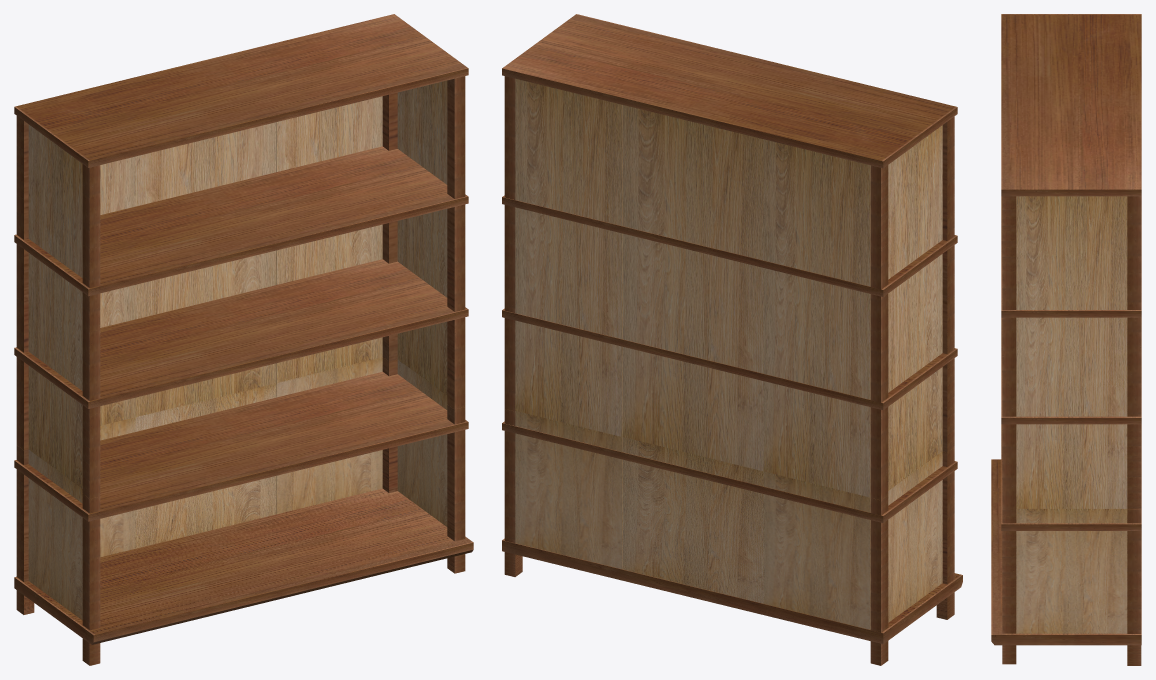
Rendered from MuebleEstante3.fbx.
3 views of the same model, side by side, from view 1: azimuth 30°, elevation 25°; view 2: azimuth 150°, elevation 25°; view 3: azimuth 270°, elevation 25° (orthographic). The views are drawn at different scales.
Parts seen in each view (by area): view 1: Cubo.032; view 2: Cubo.032; view 3: Cubo.032.
Part boxes in pixels (bbox=[...]): Cubo.032: bbox=[14, 14, 473, 665]; Cubo.032: bbox=[502, 14, 962, 665]; Cubo.032: bbox=[991, 14, 1141, 665].
Bounding box in the file's own units: 174 × 221 × 62.91.
Materials: 12 (12 with a texture image).
